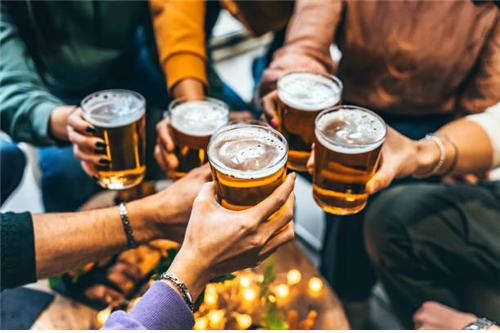alcohol: (310, 106, 386, 217), (209, 125, 291, 214), (80, 89, 148, 192), (277, 72, 344, 174), (166, 99, 230, 184)
